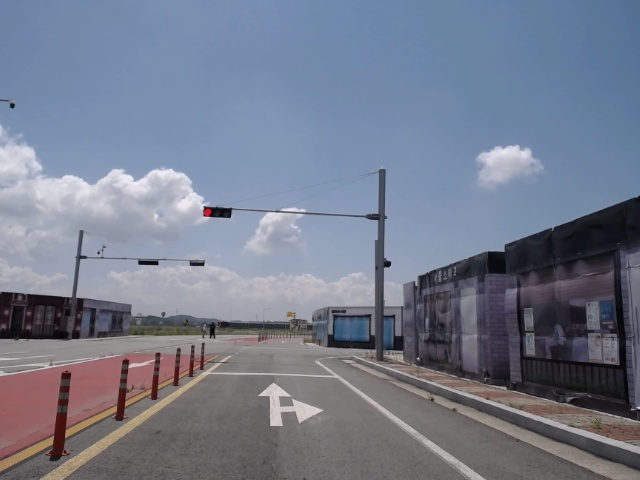red_3: (202, 206, 233, 219)
